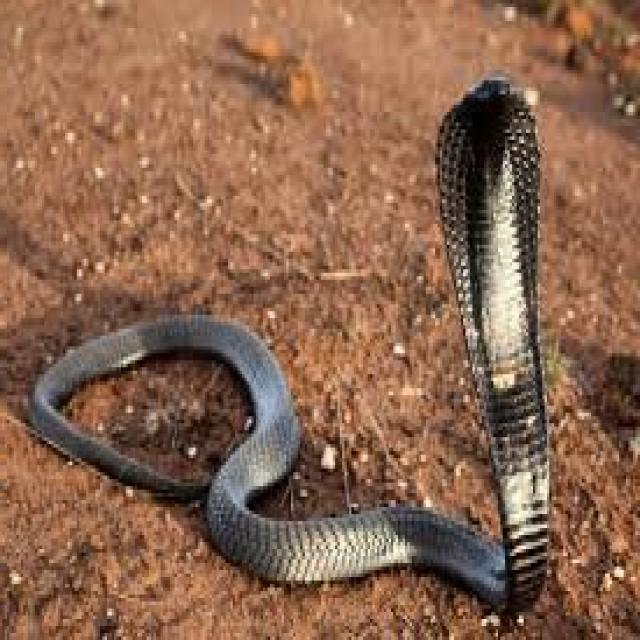snake: (33, 77, 552, 609)
